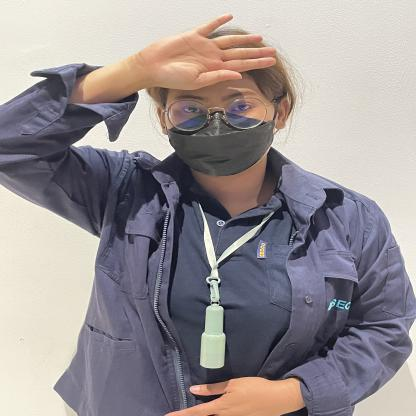Sick: (57, 10, 298, 95)
